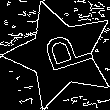P_W: (29, 29, 92, 80)
